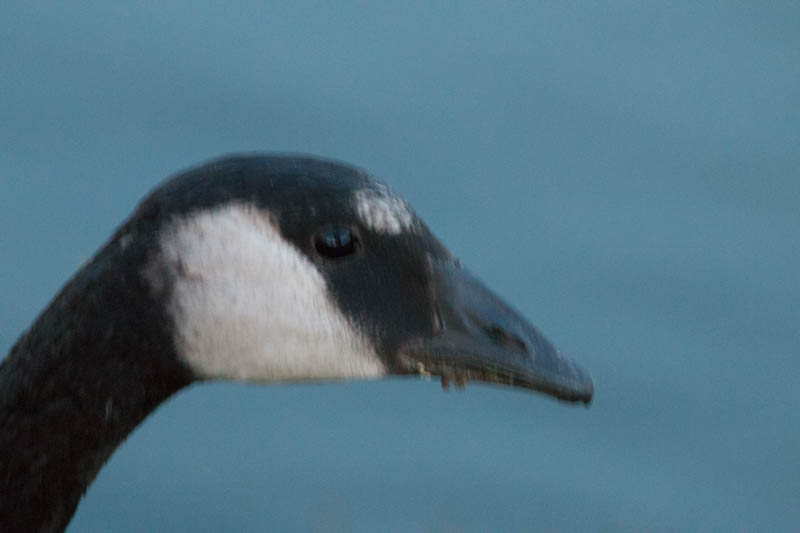goose-head: (110, 152, 595, 411)
